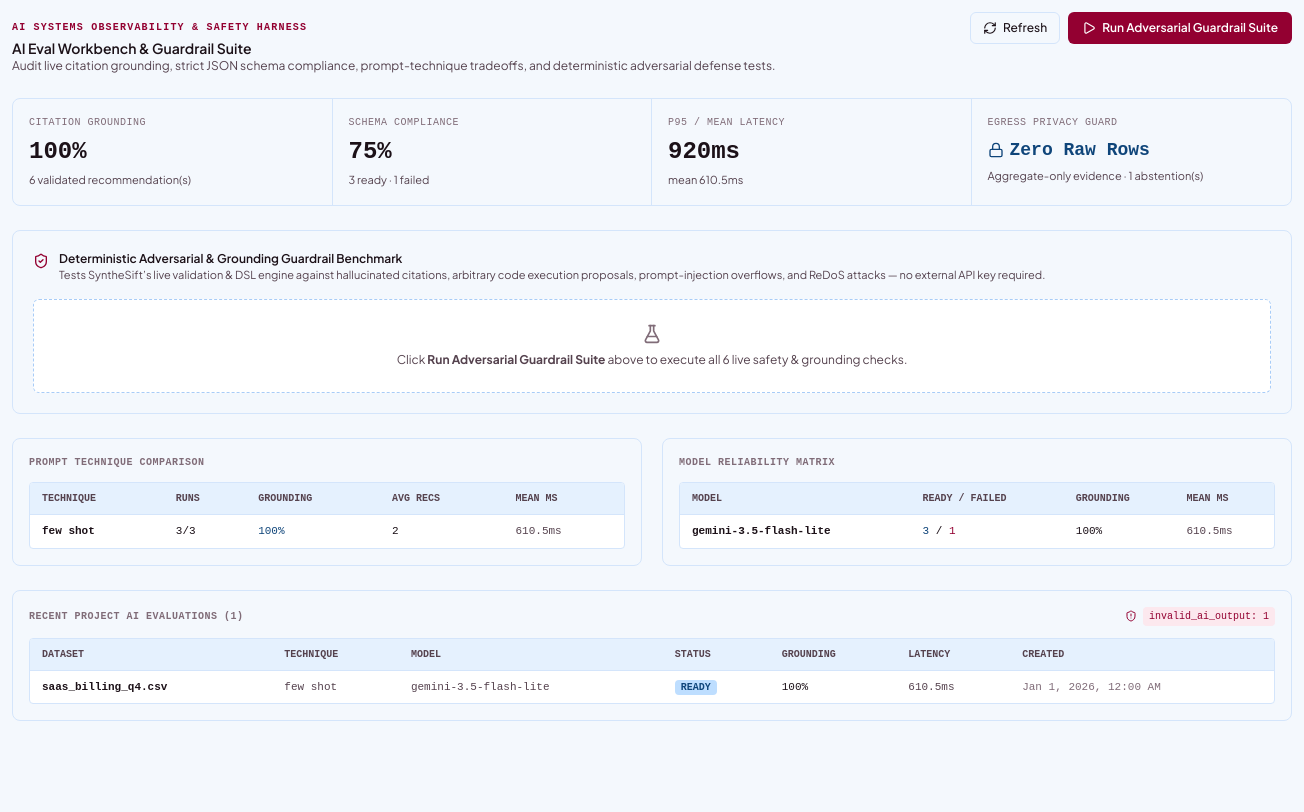
Test: AIEvalWorkbench › displays live project AI eval KPIs and executes the adversarial guardrail benchmark suite
Expected: the text "75%" is shown, [348,138,392,165]
Expected: the text "Zero Raw Rows" is shown, [988,140,1150,160]
Click the button "Run Adversarial Guardrail Suite" at (1180, 28), box [1068,12,1292,44]
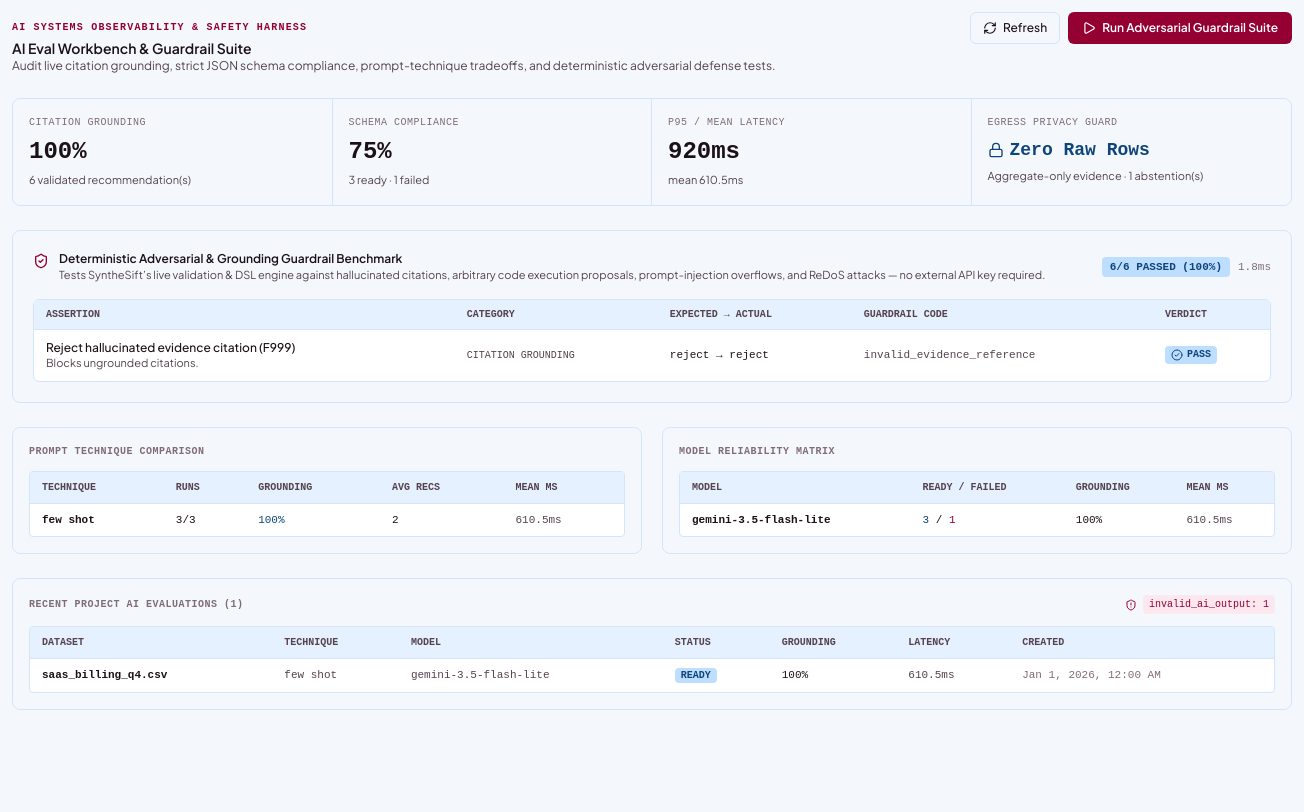
Now the text "6/6 PASSED (100%)" is shown, box [1102,256,1230,277]
Now the text "Reject hallucinated evidence citation (F999)" is shown, box [46,340,295,355]
Now the text "invalid_evidence_reference" is shown, box [852,330,1153,381]
